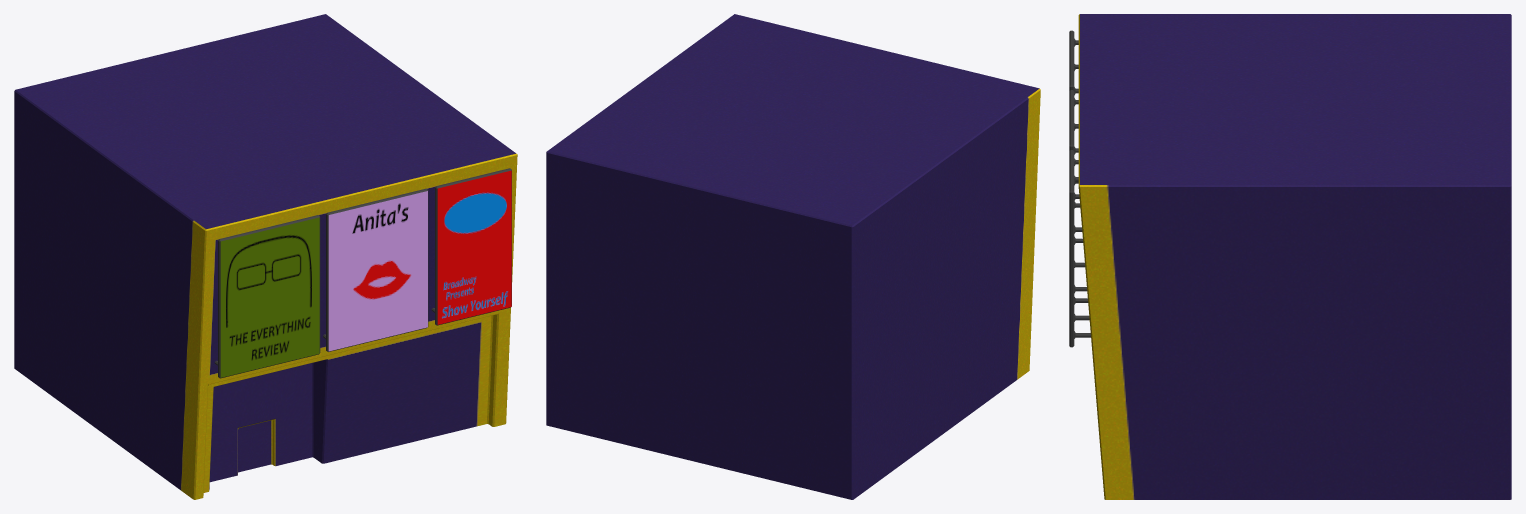
3 renders of one model, left to right at view 1: azimuth 30°, elevation 25°; view 2: azimuth 150°, elevation 25°; view 3: azimuth 270°, elevation 25°, orthographic. The views are drawn at different scales.
Parts seen in each view (by area): view 1: TS6; view 2: TS6; view 3: TS6.
Part boxes in pixels (x1=…): TS6: x1=14, y1=14, x2=517, y2=499; TS6: x1=546, y1=14, x2=1040, y2=499; TS6: x1=1069, y1=14, x2=1511, y2=499.
Bounding box in the file's own units: 2000 × 1704 × 2173.
Materials: 1 (1 with a texture image).
